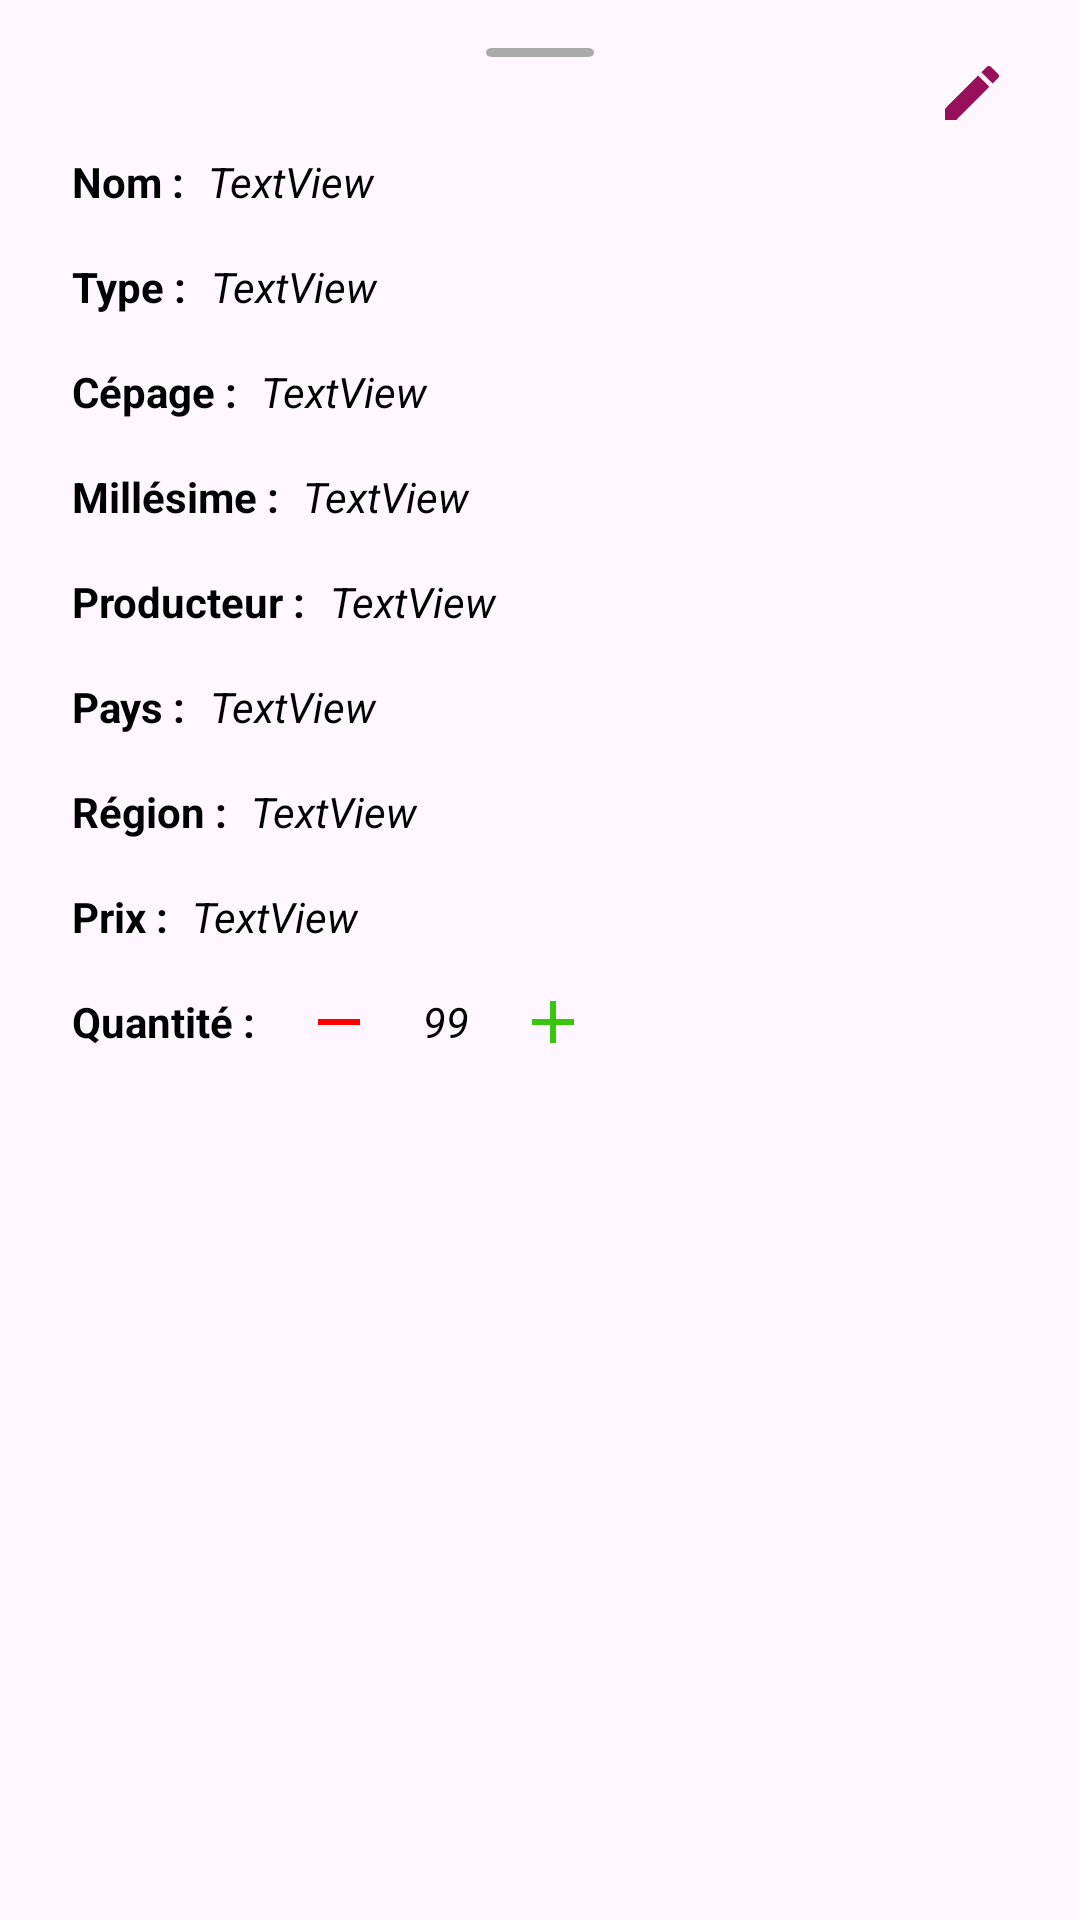

Screen size 1080w x 1920h. Icon name, then its box in pixels as bbox(x1, y1, x2, y2):
add: bbox(532, 1001, 574, 1043)
edit: bbox(945, 66, 999, 120)
